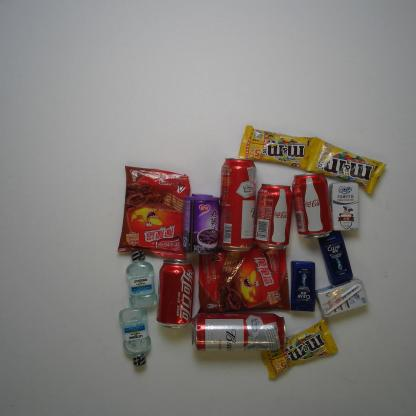Alcohol: (188, 312, 287, 352), (218, 156, 258, 251)
Canned Food: (181, 191, 221, 255)
Chocolate: (259, 318, 340, 381), (304, 136, 386, 195), (238, 124, 313, 172)
Dessert: (115, 163, 192, 258), (196, 248, 291, 317)
Drink: (291, 171, 334, 240), (156, 257, 195, 329), (256, 182, 294, 250)
Milk: (314, 276, 369, 321), (329, 180, 361, 232)
Personal Hygiene: (116, 306, 152, 368), (317, 230, 354, 286), (124, 251, 158, 309), (289, 260, 316, 313)
